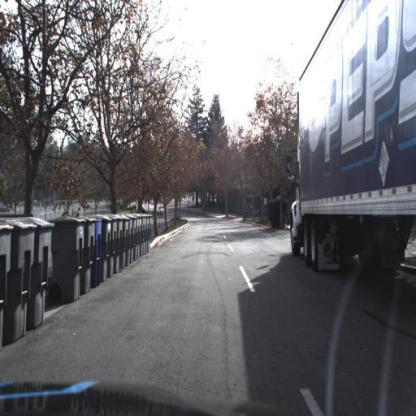truck: (269, 3, 416, 347)
